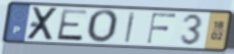3: (179, 13, 205, 48)
E: (55, 8, 90, 42)
F: (145, 12, 179, 45)
I: (123, 11, 138, 44)
O: (86, 8, 121, 45)
X: (24, 6, 61, 42)
